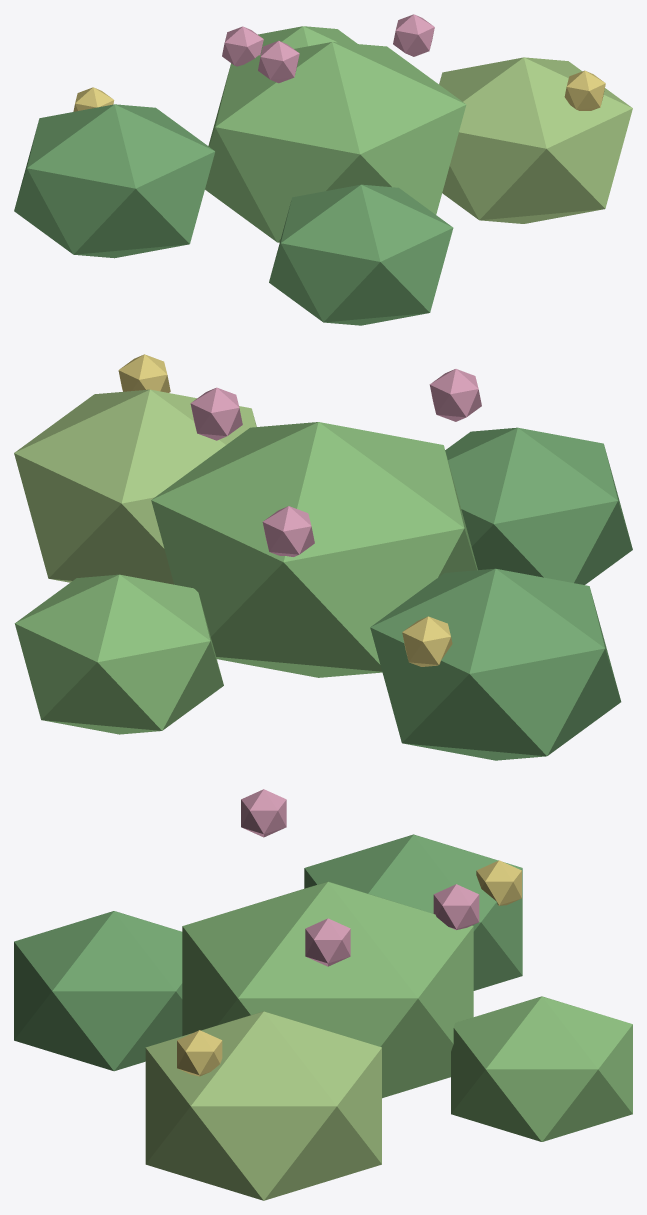
Rendered from vegetacao__arbustos.glb.
The picture shows the model from 3 angles, top to bottom: view 1: azimuth 30°, elevation 25°; view 2: azimuth 150°, elevation 25°; view 3: azimuth 270°, elevation 25°; orthographic projection. The views are drawn at different scales.
Visible parts, largest first — view 1: vegetacao__arbustos; view 2: vegetacao__arbustos; view 3: vegetacao__arbustos.
Part boxes in pixels (x1,y1,x2,y2): vegetacao__arbustos: (14, 14, 632, 325); vegetacao__arbustos: (14, 354, 632, 760); vegetacao__arbustos: (14, 789, 632, 1200).
Size of the model in its own units: 0.6436 by 0.289 by 0.5786.
